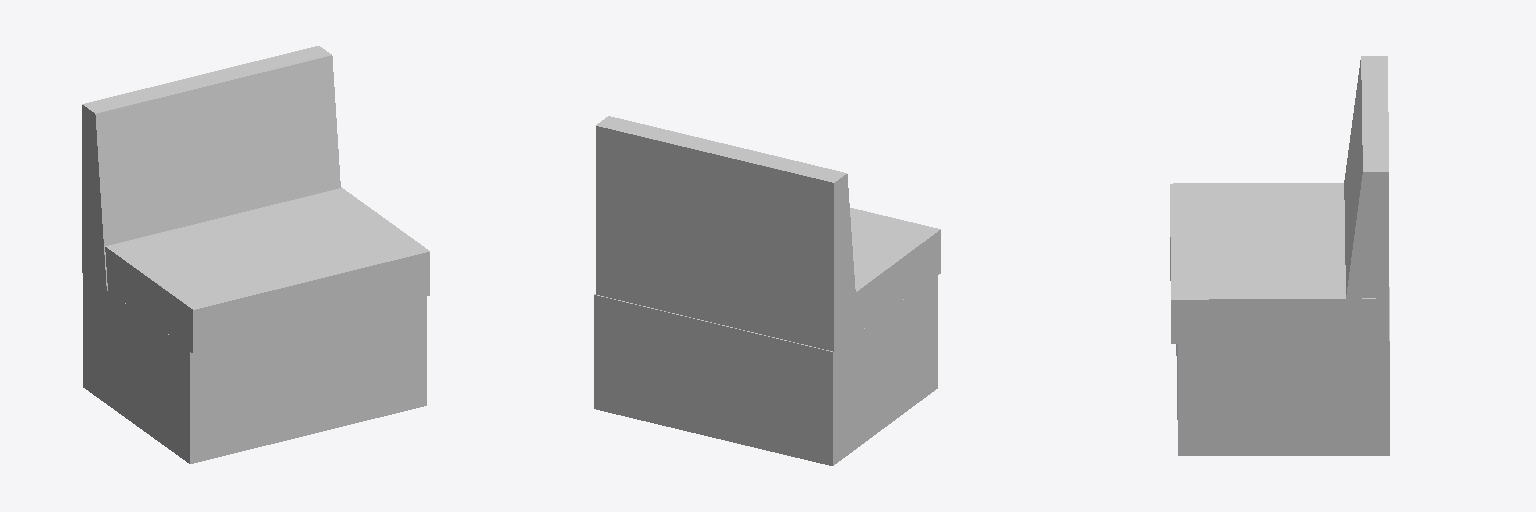
Rendered from sofa.obj.
3 renders of one model, left to right at view 1: azimuth 30°, elevation 25°; view 2: azimuth 150°, elevation 25°; view 3: azimuth 270°, elevation 25°, orthographic.
Parts seen in each view (by area): view 1: Cube.002, Cube, Cube.001; view 2: Cube.002, Cube, Cube.001; view 3: Cube.001, Cube, Cube.002.
Boxes of the visible parts, x1,y1,x2,y2 form: Cube.002: [82, 46, 340, 290]; Cube: [83, 274, 426, 463]; Cube.001: [105, 187, 429, 353]; Cube.002: [596, 116, 858, 351]; Cube: [594, 274, 937, 465]; Cube.001: [850, 208, 940, 332]; Cube.001: [1170, 183, 1375, 343]; Cube: [1176, 287, 1389, 455]; Cube.002: [1344, 56, 1388, 340].
Size of the model in its own units: 0.702 by 0.7911 by 0.5582.